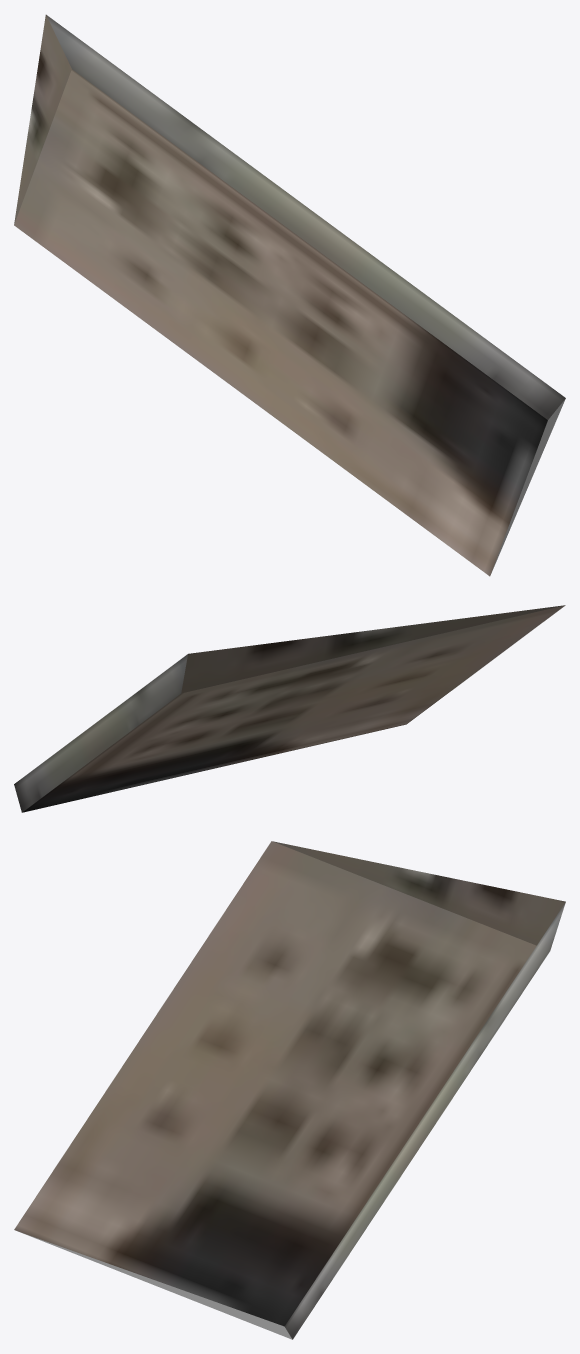
The model's file is 19767_bldg_Building.glb.
3 renders of one model, top to bottom at view 1: azimuth 30°, elevation 25°; view 2: azimuth 150°, elevation 25°; view 3: azimuth 270°, elevation 25°, orthographic. The views are drawn at different scales.
Bounding box in the file's own units: 14.63 × 9.16 × 15.14.
Materials: 2 (1 with a texture image).
